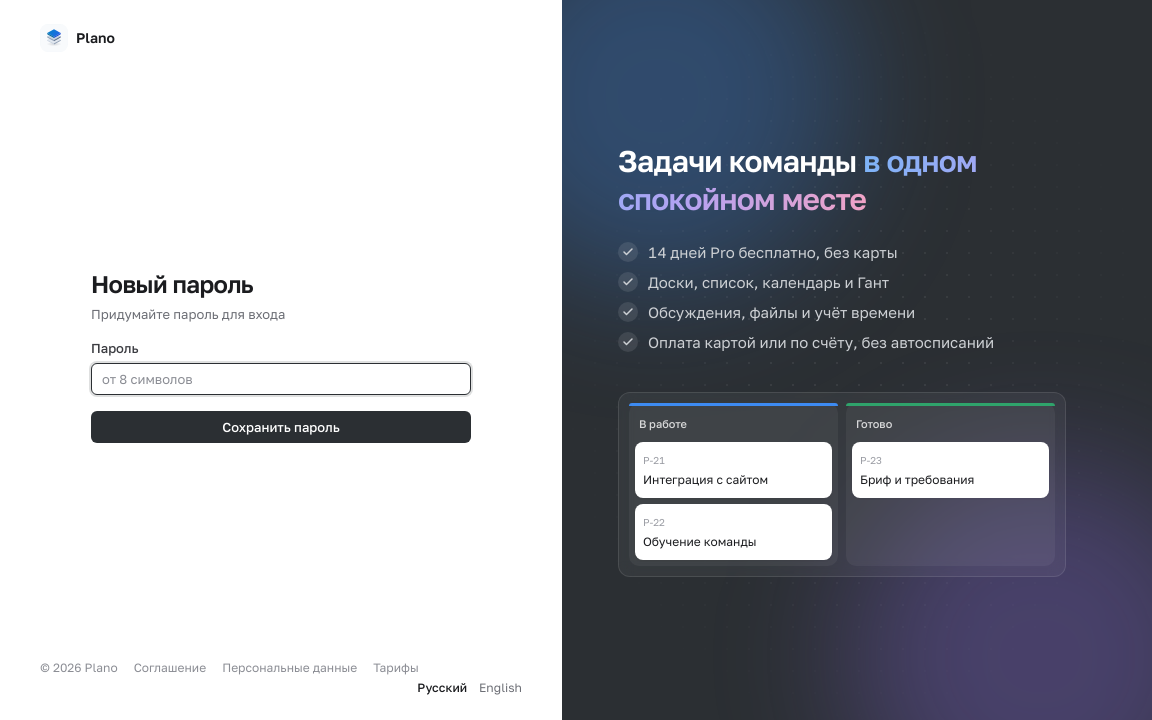
password recovery › offers to ask again when the link is stale
Click the button "Сохранить пароль": click(281, 427) [91, 411, 471, 443]
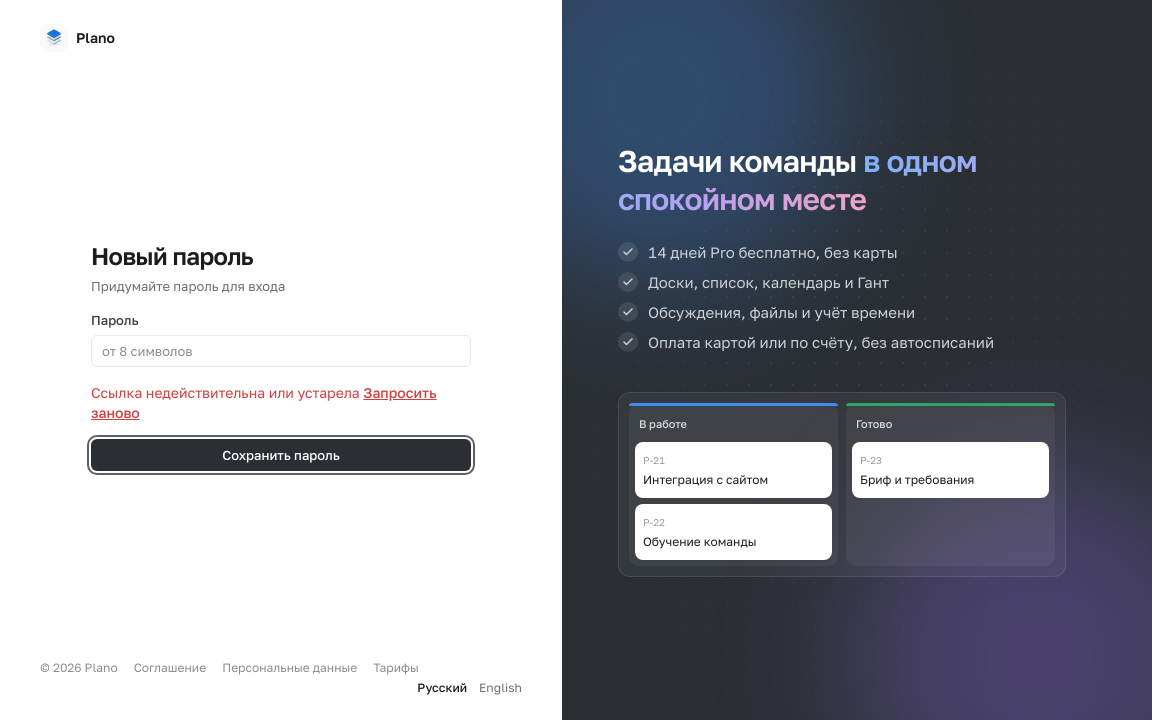
Check: the text "Ссылка недействительна или устарела Запросить заново" is shown, box [91, 383, 471, 423]
